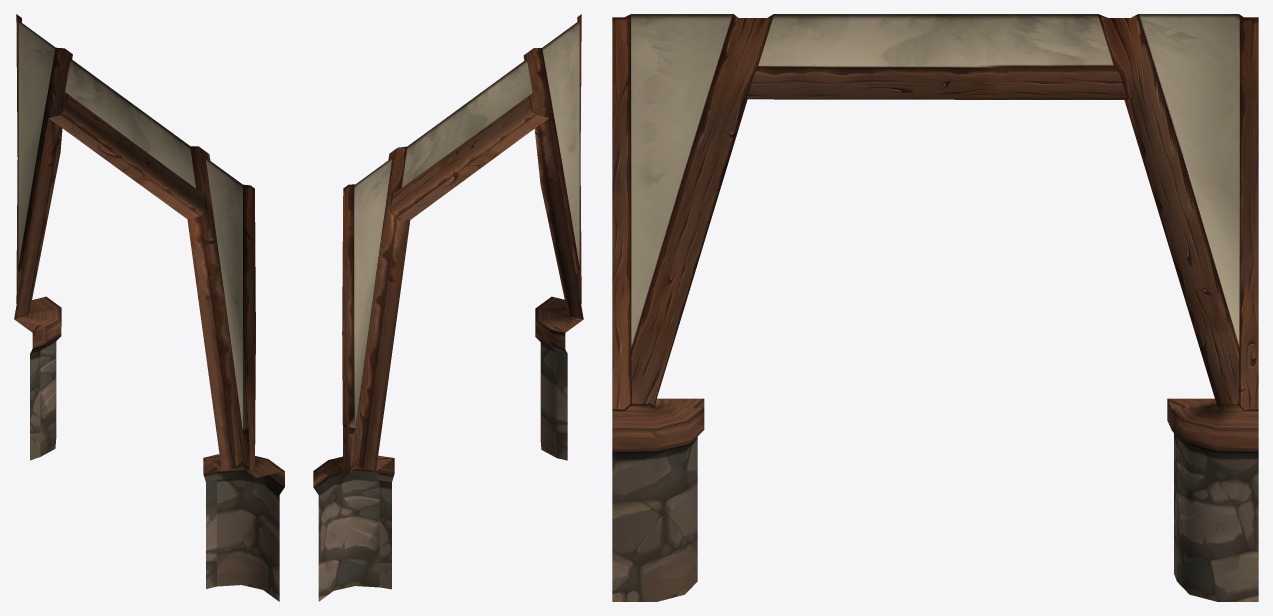
The model's file is Wall_3_Door.fbx.
3 renders of one model, left to right at view 1: azimuth 30°, elevation 25°; view 2: azimuth 150°, elevation 25°; view 3: azimuth 270°, elevation 25°, orthographic. The views are drawn at different scales.
Parts seen in each view (by area): view 1: pCube9; view 2: pCube9; view 3: pCube9.
Boxes of the visible parts, box(x1,y1,x2,y2) form: pCube9: box(14, 14, 284, 601); pCube9: box(313, 14, 583, 601); pCube9: box(612, 14, 1258, 601).
Bounding box in the file's own units: 1.15 × 9.7 × 10.
